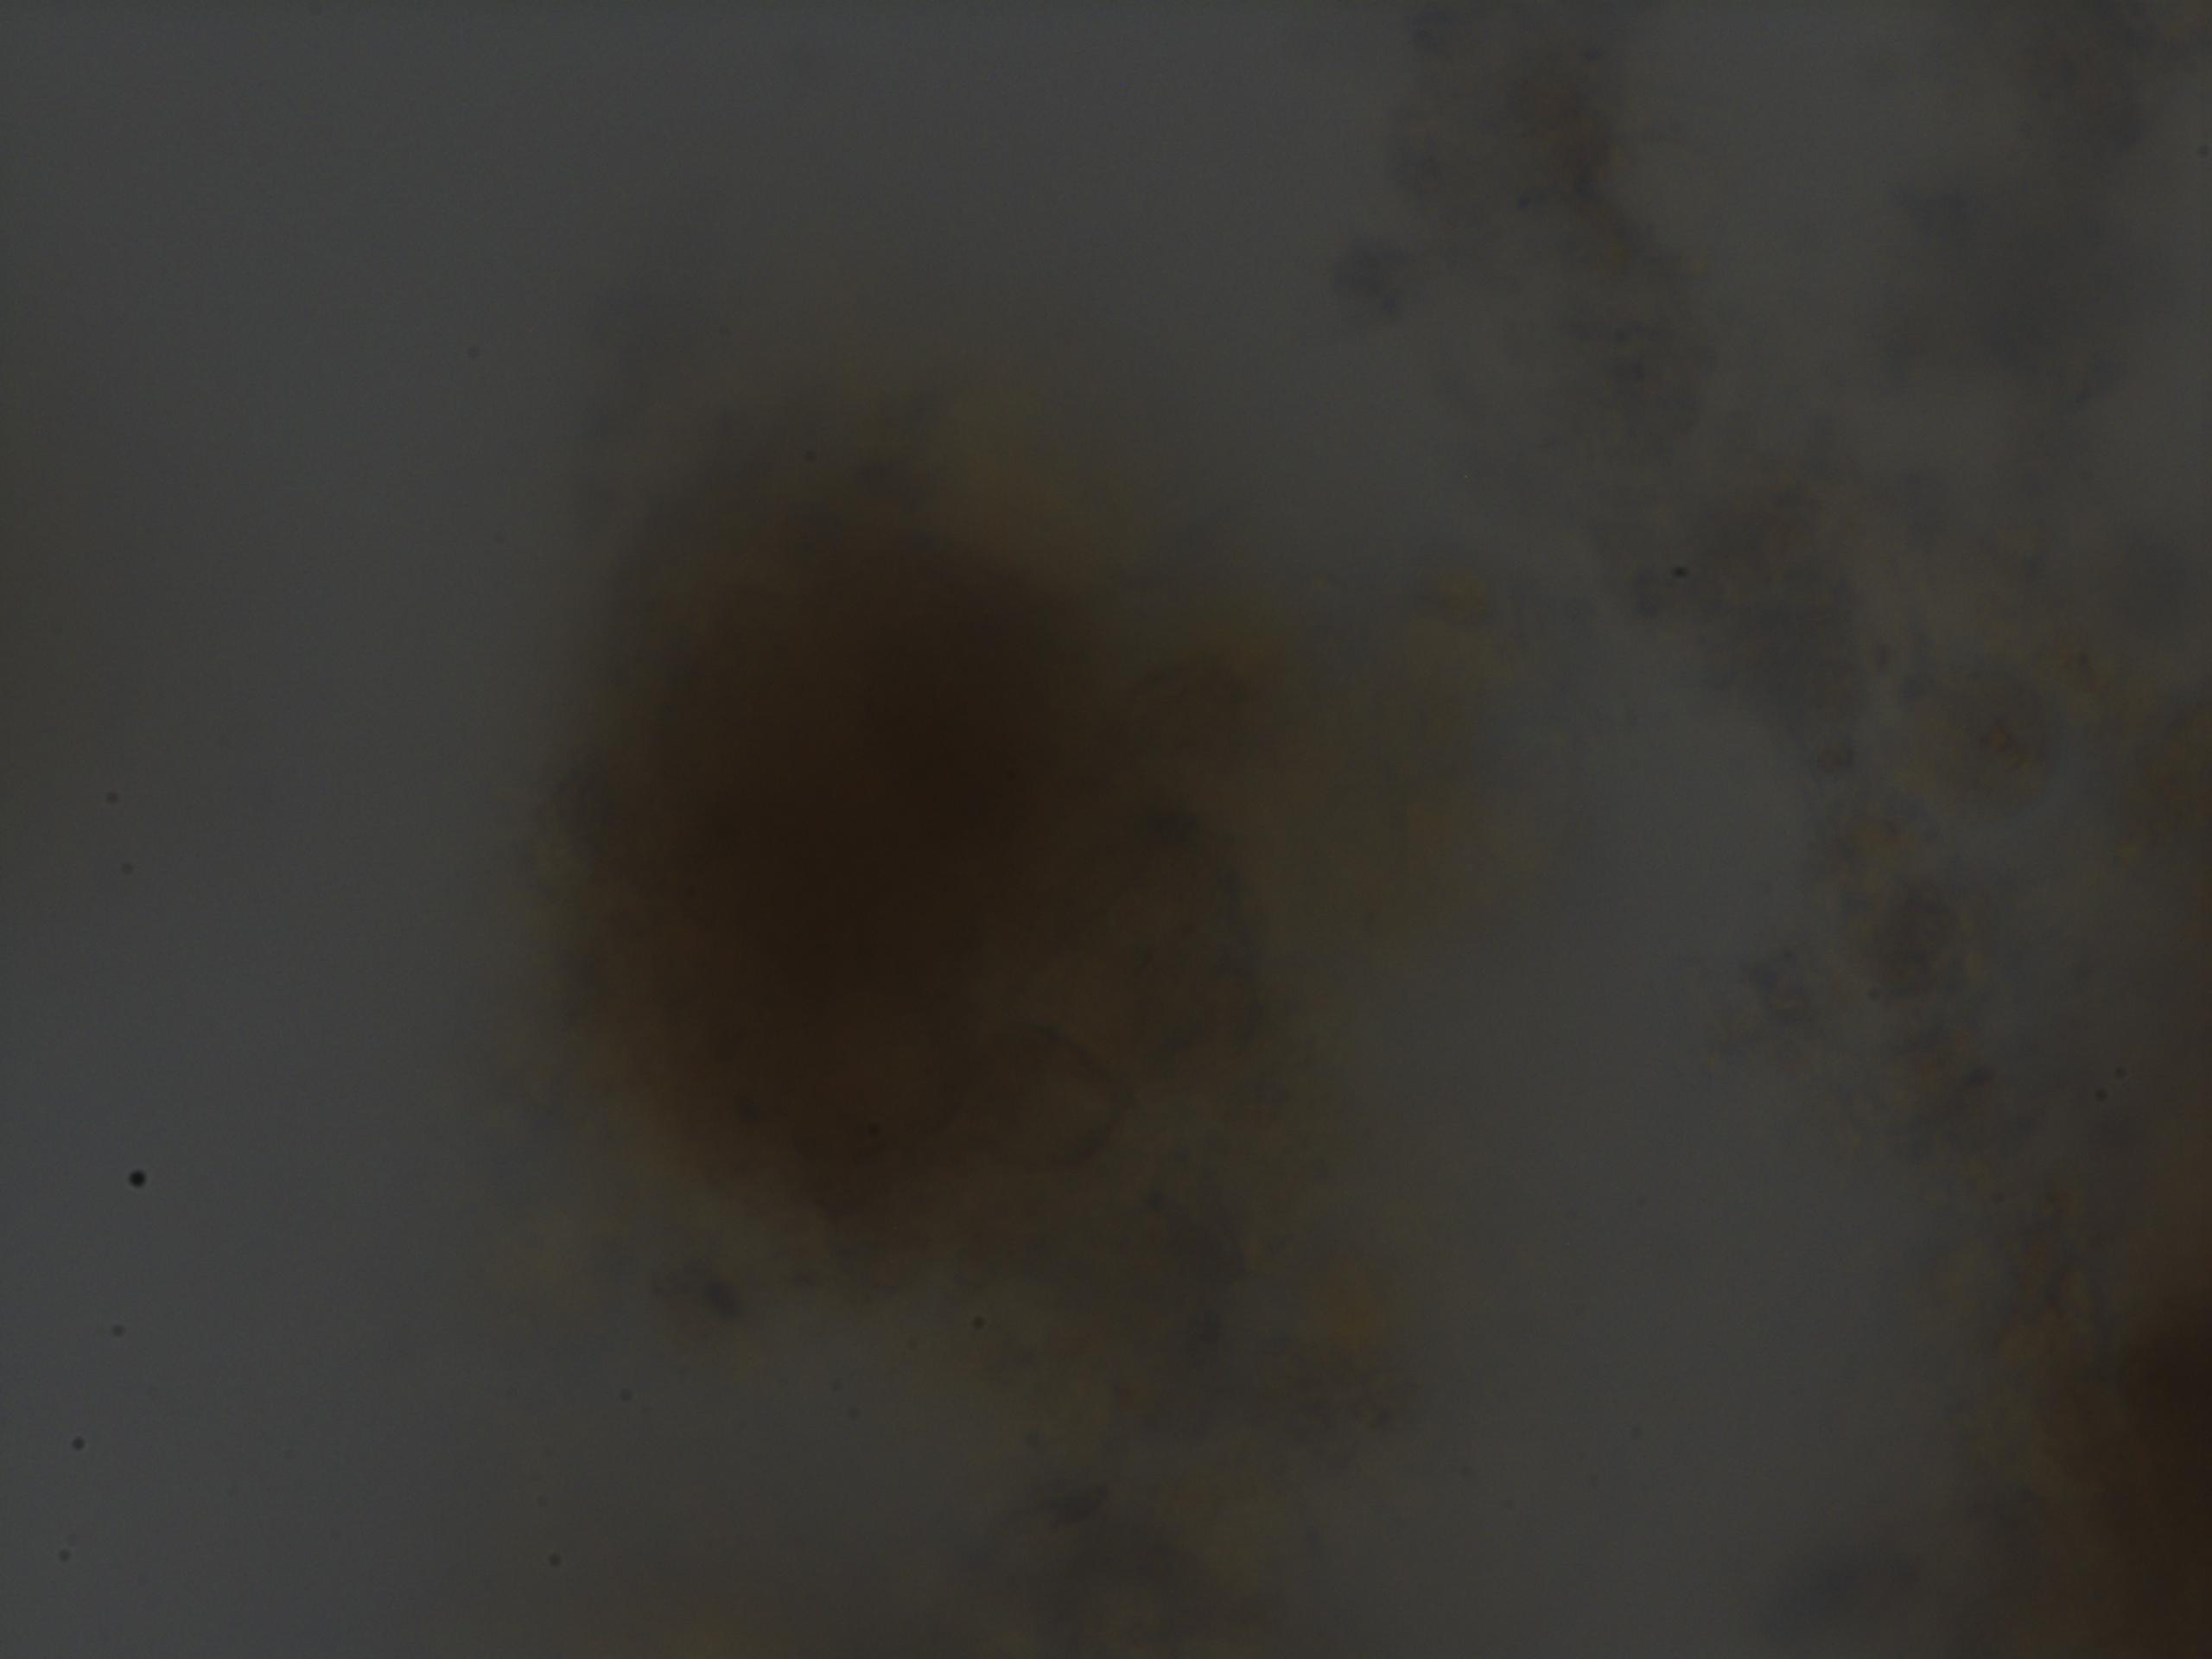spherical_floc: (514, 392, 1346, 1340)
